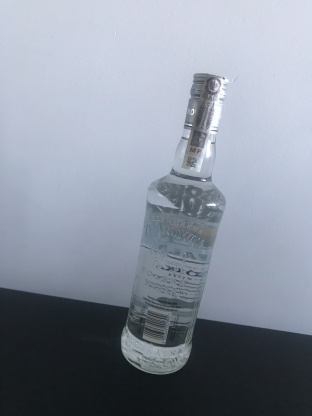nakretka: (180, 69, 230, 137)
